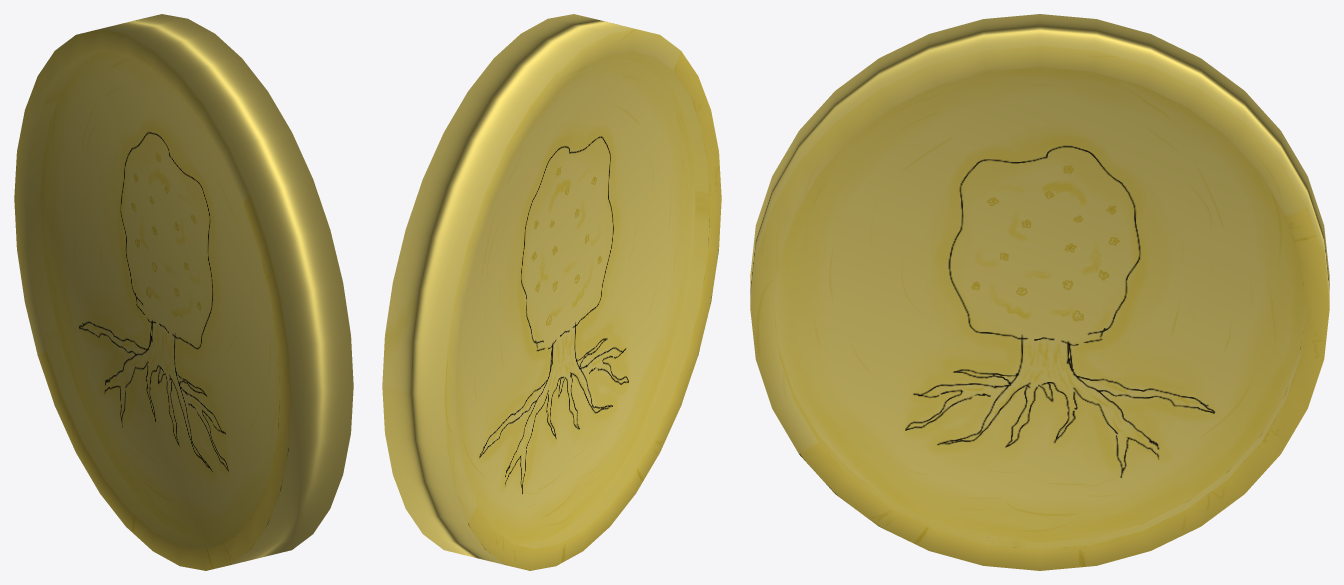
File: Coin.fbx
3 renders of one model, left to right at view 1: azimuth 30°, elevation 25°; view 2: azimuth 150°, elevation 25°; view 3: azimuth 270°, elevation 25°, orthographic. The views are drawn at different scales.
Visible parts, largest first — view 1: Cylinder; view 2: Cylinder; view 3: Cylinder.
Boxes of the visible parts, box(x1,y1,x2,y2) form: Cylinder: box(14, 14, 353, 570); Cylinder: box(382, 14, 721, 570); Cylinder: box(750, 14, 1329, 570).
Size of the model in its own units: 65.6 by 506 by 506.
